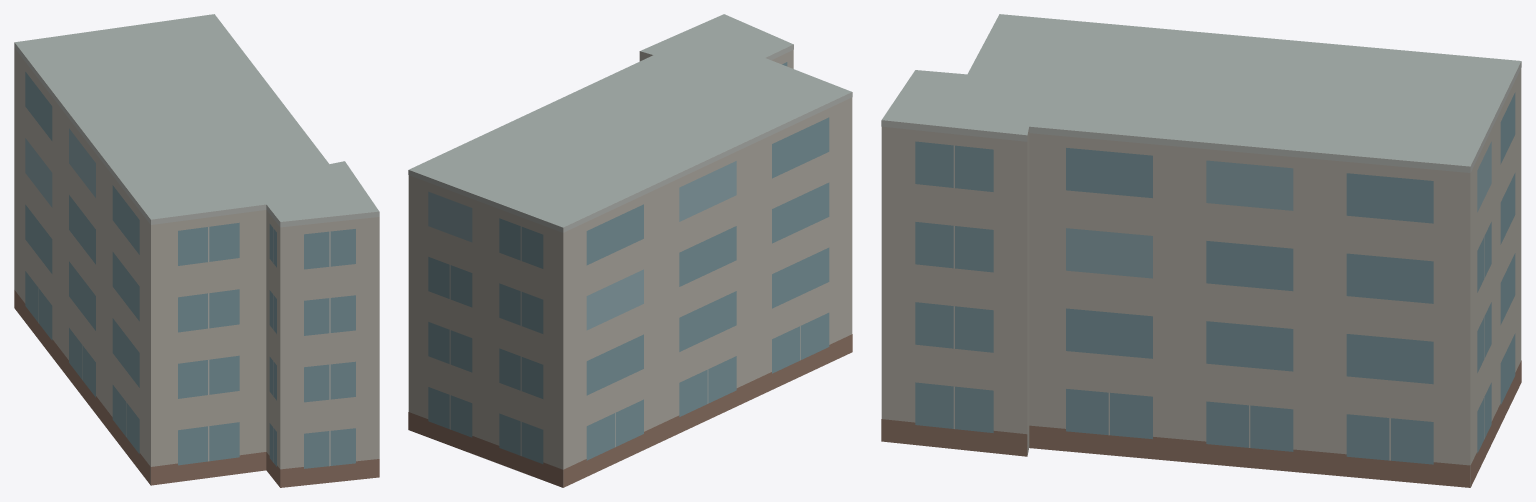
Rendered from survey-upis-32975171.glb.
The picture shows the model from 3 angles, left to right: view 1: azimuth 30°, elevation 25°; view 2: azimuth 150°, elevation 25°; view 3: azimuth 270°, elevation 25°; orthographic projection. The views are drawn at different scales.
Parts seen in each view (by area): view 1: survey-upis-32975171.tmp; view 2: survey-upis-32975171.tmp; view 3: survey-upis-32975171.tmp.
Part boxes in pixels (box(x1,y1,x2,y2)): survey-upis-32975171.tmp: box(14, 14, 379, 487); survey-upis-32975171.tmp: box(408, 14, 852, 487); survey-upis-32975171.tmp: box(881, 14, 1521, 487).
Size of the model in its own units: 12.33 by 12.1 by 21.85.
